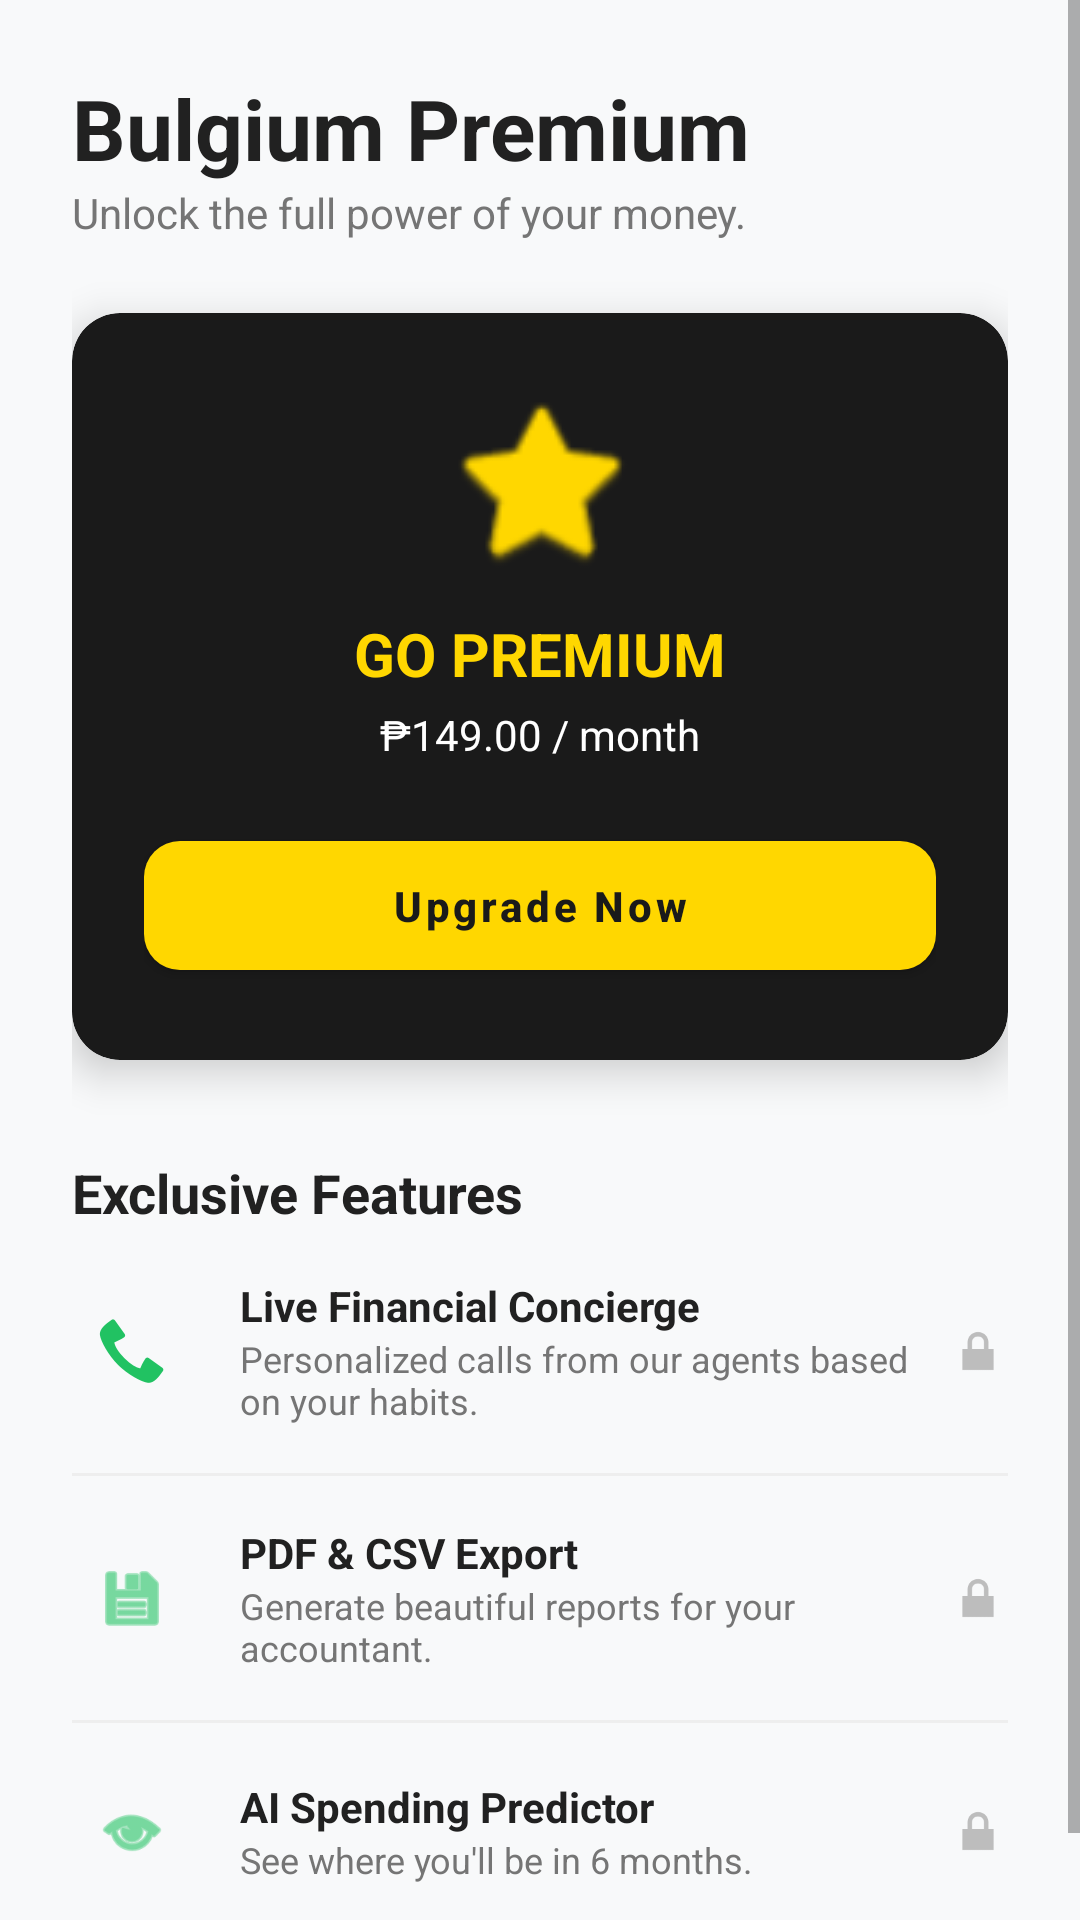

Point at icon controls on the screen. Image size 1080×1920, points as point (x, y).
lock: point (978, 1351), point (978, 1598), point (978, 1831)
phone call: point (132, 1351)
save: point (132, 1598)
star on: point (541, 482)
view: point (132, 1832)
